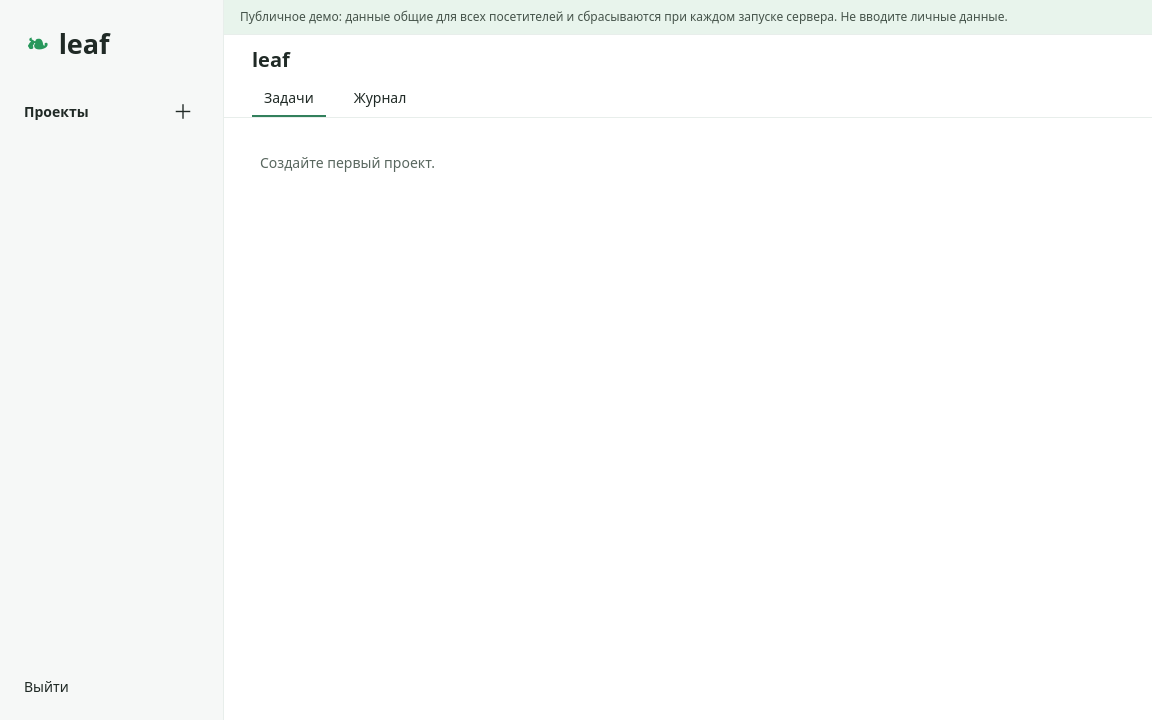
shows a demo write limit while leaving project reads available
Click the button named "Новый проект": (183, 112) [167, 96, 199, 126]
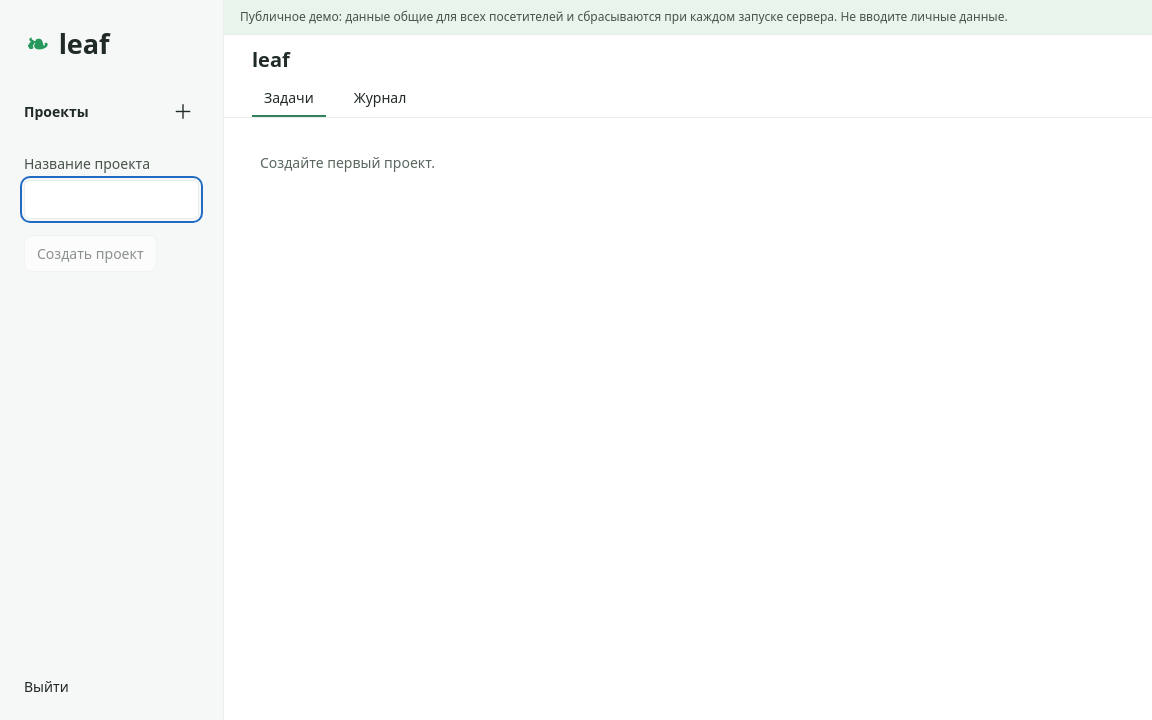
In the field labelled "Название проекта": (112, 199) [24, 180, 199, 218], type "Синтетический проект"
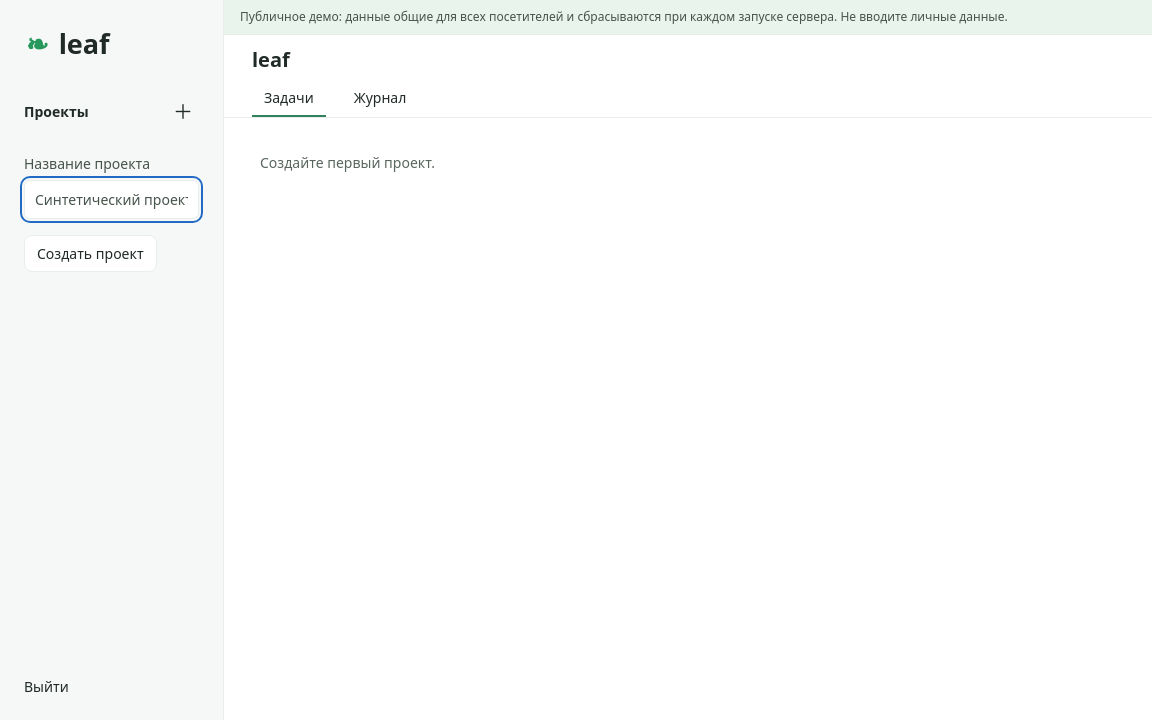
Click the button "Создать проект": (90, 253) [24, 234, 157, 272]
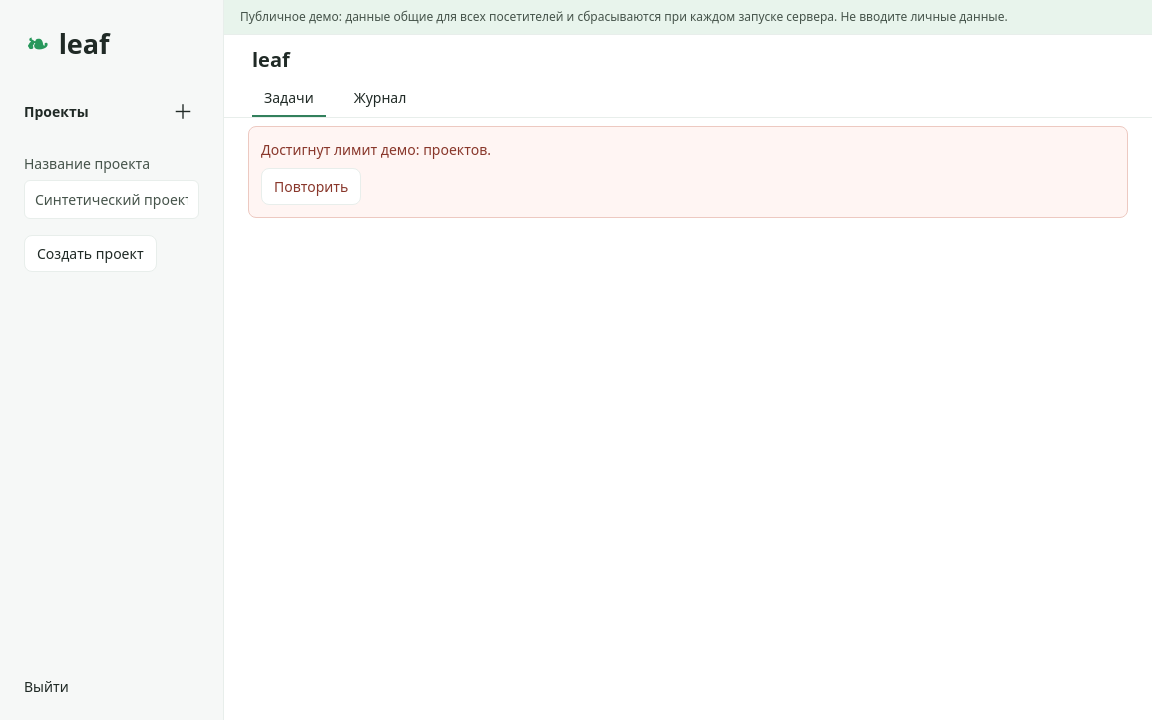
Expected: the message shows "Достигнут лимит демо: проектов.", [261, 140, 491, 159]
Click the button "Повторить": (311, 186) [261, 168, 361, 205]
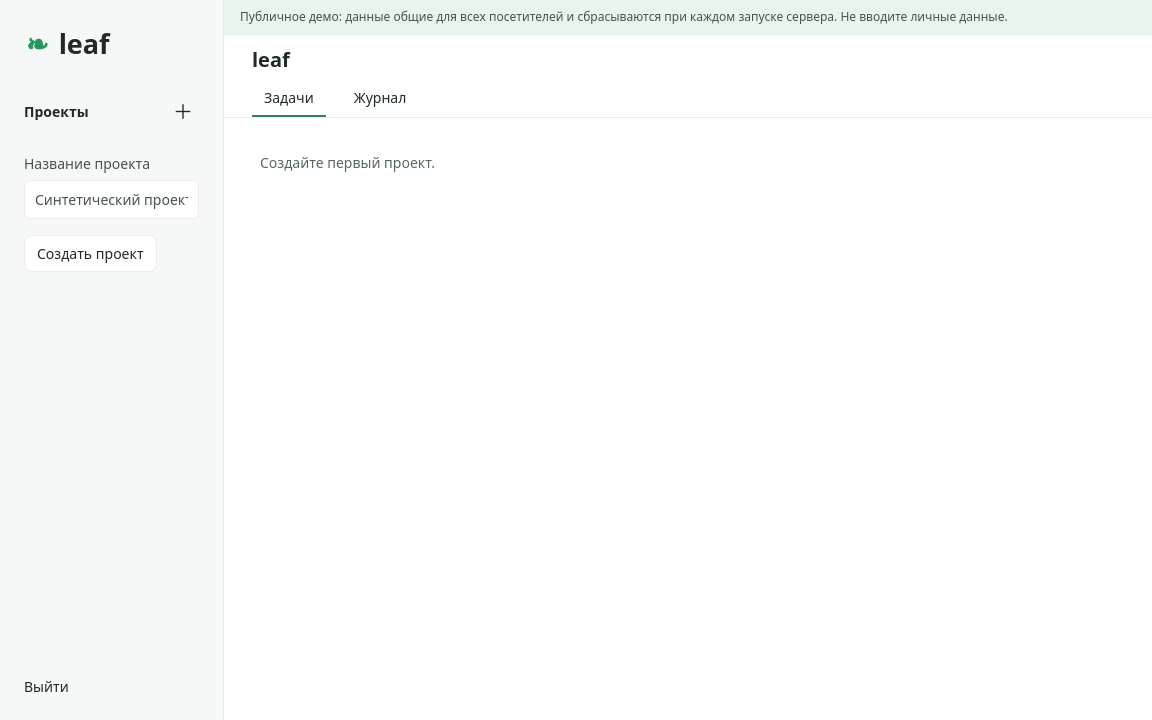
Expected: the text "Создайте первый проект." is shown, [260, 153, 435, 172]
